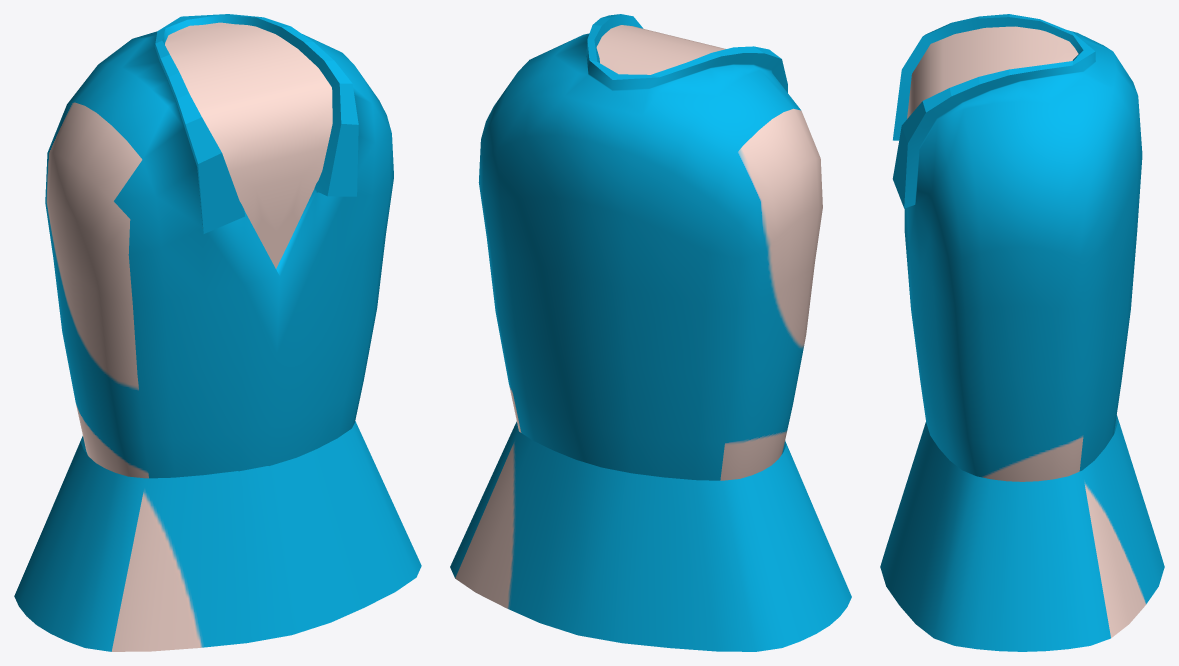
Rendered from NvHai.FBX.
3 renders of one model, left to right at view 1: azimuth 30°, elevation 25°; view 2: azimuth 150°, elevation 25°; view 3: azimuth 270°, elevation 25°, orthographic. The views are drawn at different scales.
Parts seen in each view (by area): view 1: 对象001; view 2: 对象001; view 3: 对象001.
Part boxes in pixels (left/top/right/bottom): 对象001: left=14, top=14, right=421, bottom=651; 对象001: left=450, top=14, right=851, bottom=651; 对象001: left=880, top=14, right=1164, bottom=651.
Size of the model in its own units: 41.48 by 59.6 by 29.33.
